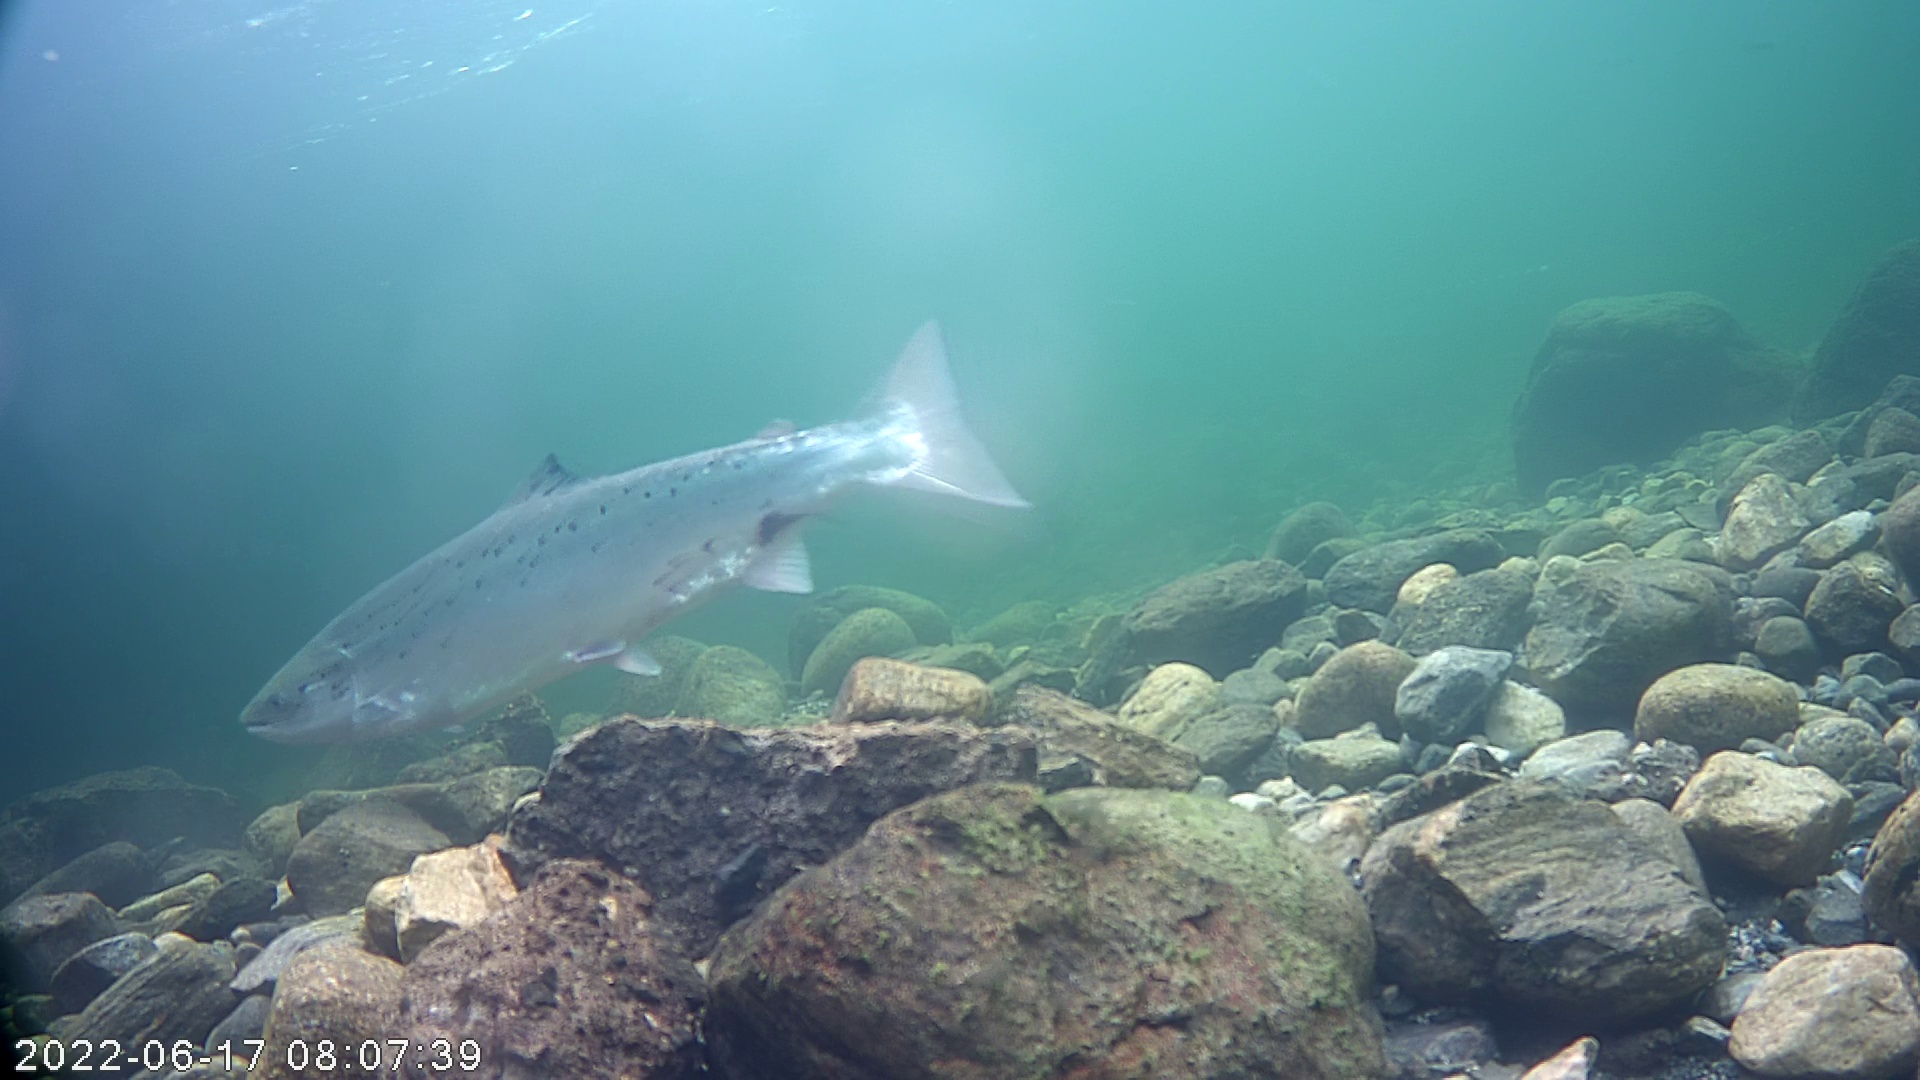salmon: (235, 318, 1033, 752)
